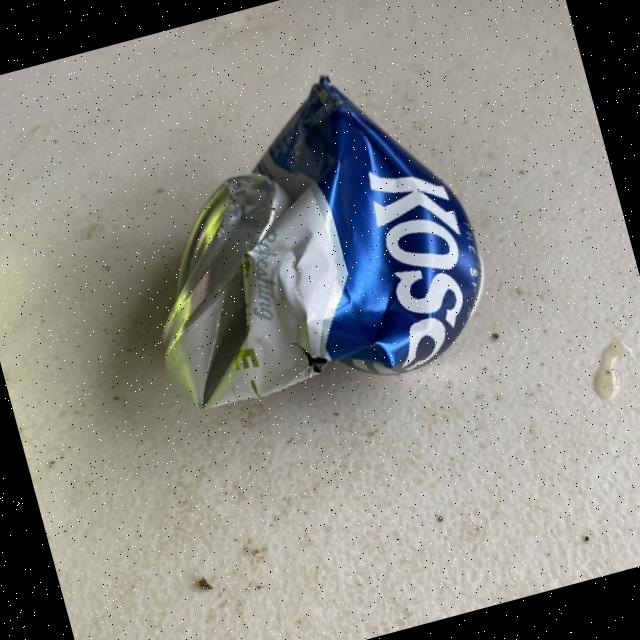metal: (100, 46, 506, 432)
